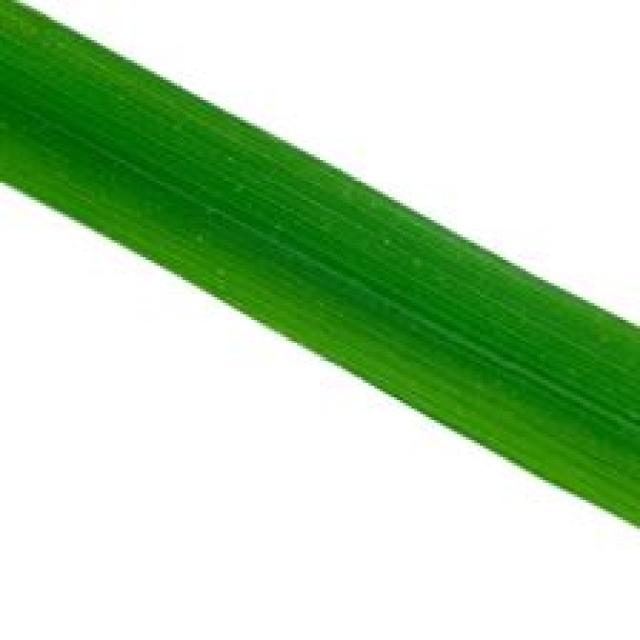Rice___Healthy_Rice_Plant: (0, 0, 637, 526)
